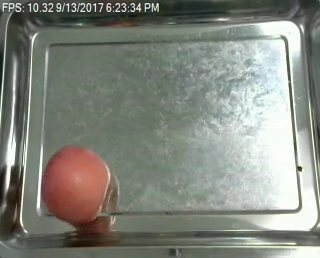Apple: (38, 144, 113, 225)
